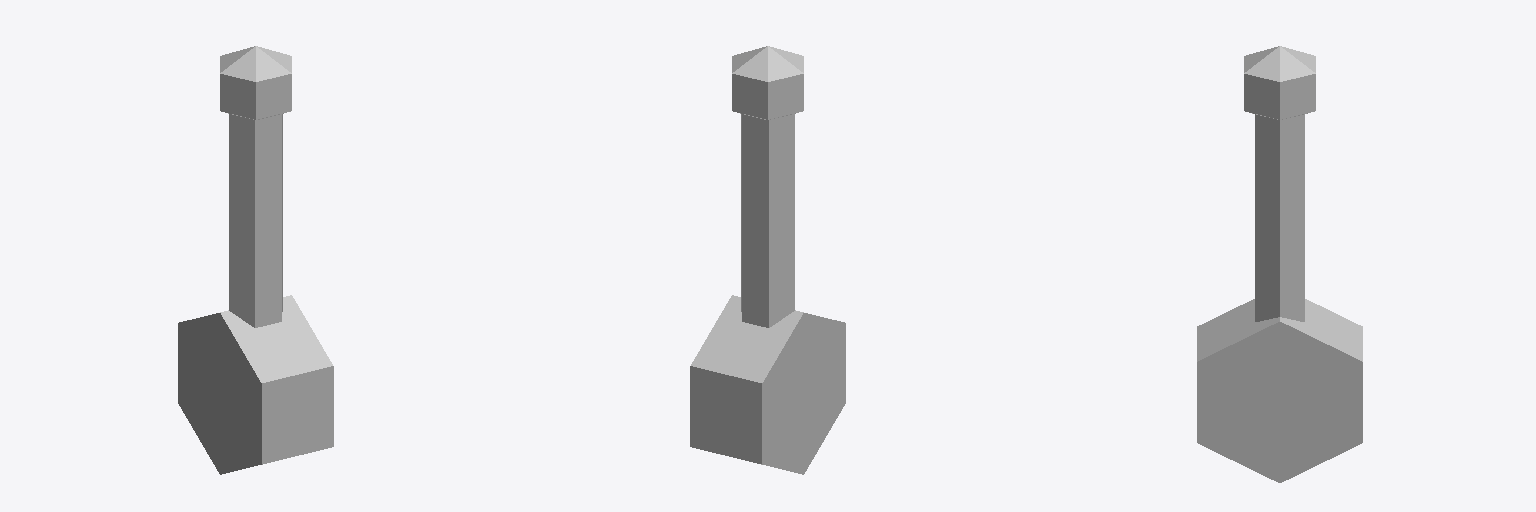
The model's file is control_panel_speed_lever.obj.
The picture shows the model from 3 angles: view 1: azimuth 30°, elevation 25°; view 2: azimuth 150°, elevation 25°; view 3: azimuth 270°, elevation 25°; orthographic projection.
Parts seen in each view (by area): view 1: rotator.001; view 2: rotator.001; view 3: rotator.001.
Boxes of the visible parts, x1=… form: rotator.001: x1=178, y1=46, x2=333, y2=474; rotator.001: x1=690, y1=46, x2=845, y2=474; rotator.001: x1=1197, y1=46, x2=1362, y2=482.
Size of the model in its own units: 0.0942 by 0.5252 by 0.1883.